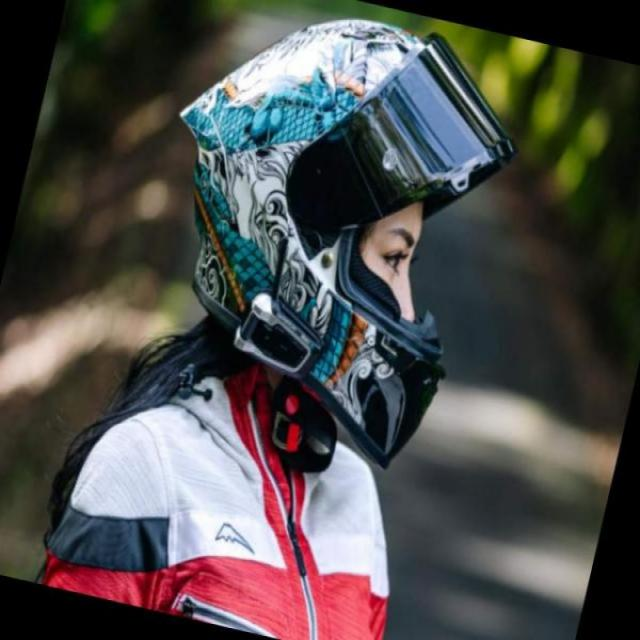Helmet: (179, 19, 557, 439)
